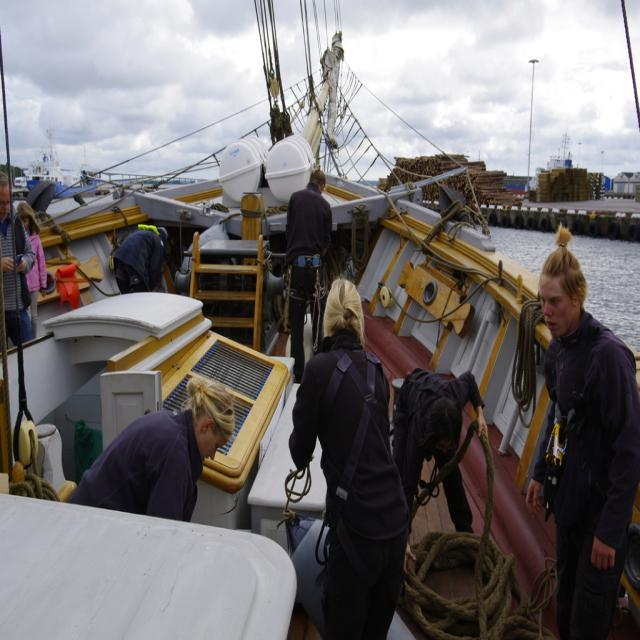Boat: (20, 62, 612, 604)
